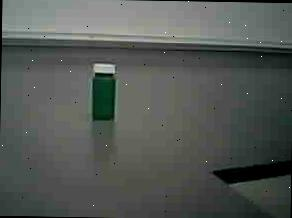Bottle C: (78, 54, 126, 132)
